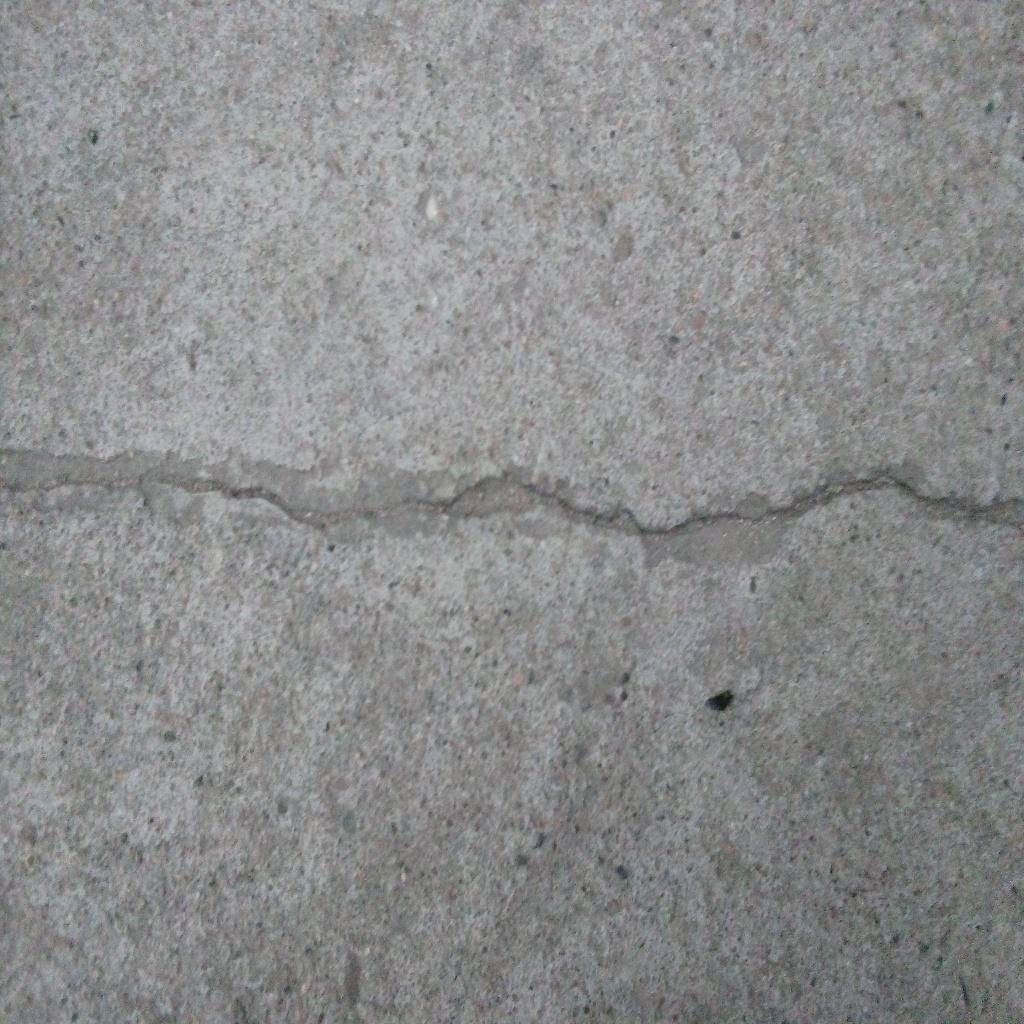Crack: (1, 446, 1024, 569)
